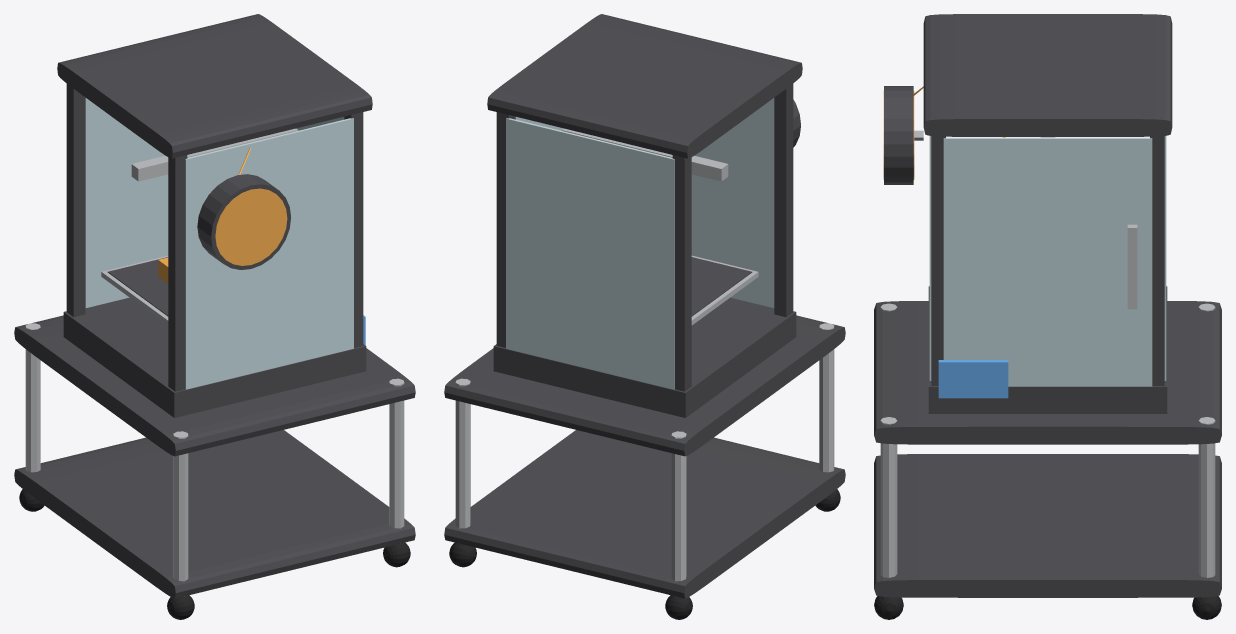
File: SM_Prop_Printer3D.fbx
The picture shows the model from 3 angles, left to right: view 1: azimuth 30°, elevation 25°; view 2: azimuth 150°, elevation 25°; view 3: azimuth 270°, elevation 25°; orthographic projection. The views are drawn at different scales.
Parts seen in each view (by area): view 1: SM_Prop_Printer3D; view 2: SM_Prop_Printer3D; view 3: SM_Prop_Printer3D.
Part boxes in pixels (<box>): SM_Prop_Printer3D: <box>14,14,415,619</box>; SM_Prop_Printer3D: <box>444,14,845,619</box>; SM_Prop_Printer3D: <box>874,14,1221,619</box>.
Size of the model in its own units: 0.7 by 0.6 by 1.1.
